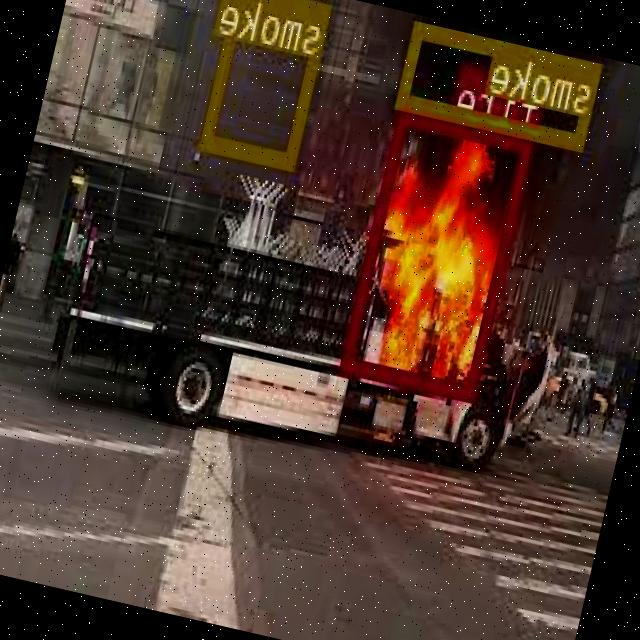fire: (343, 106, 536, 400)
smoke: (398, 20, 604, 147), (202, 0, 334, 167)
